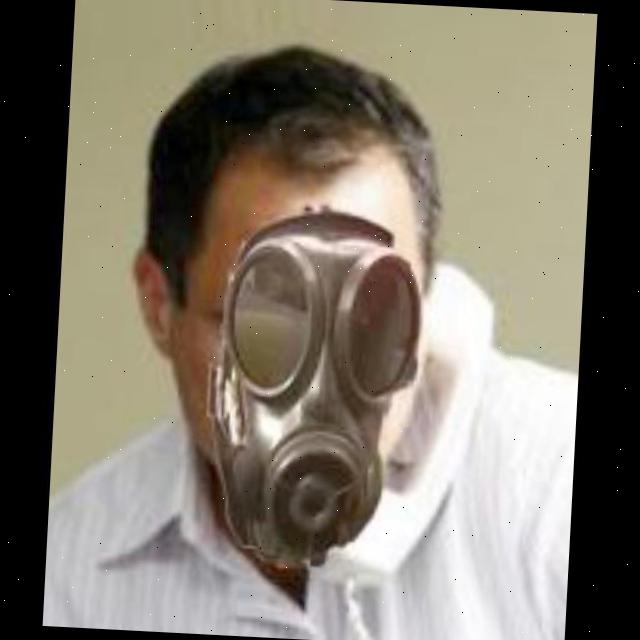suspicion: (128, 55, 446, 548)
